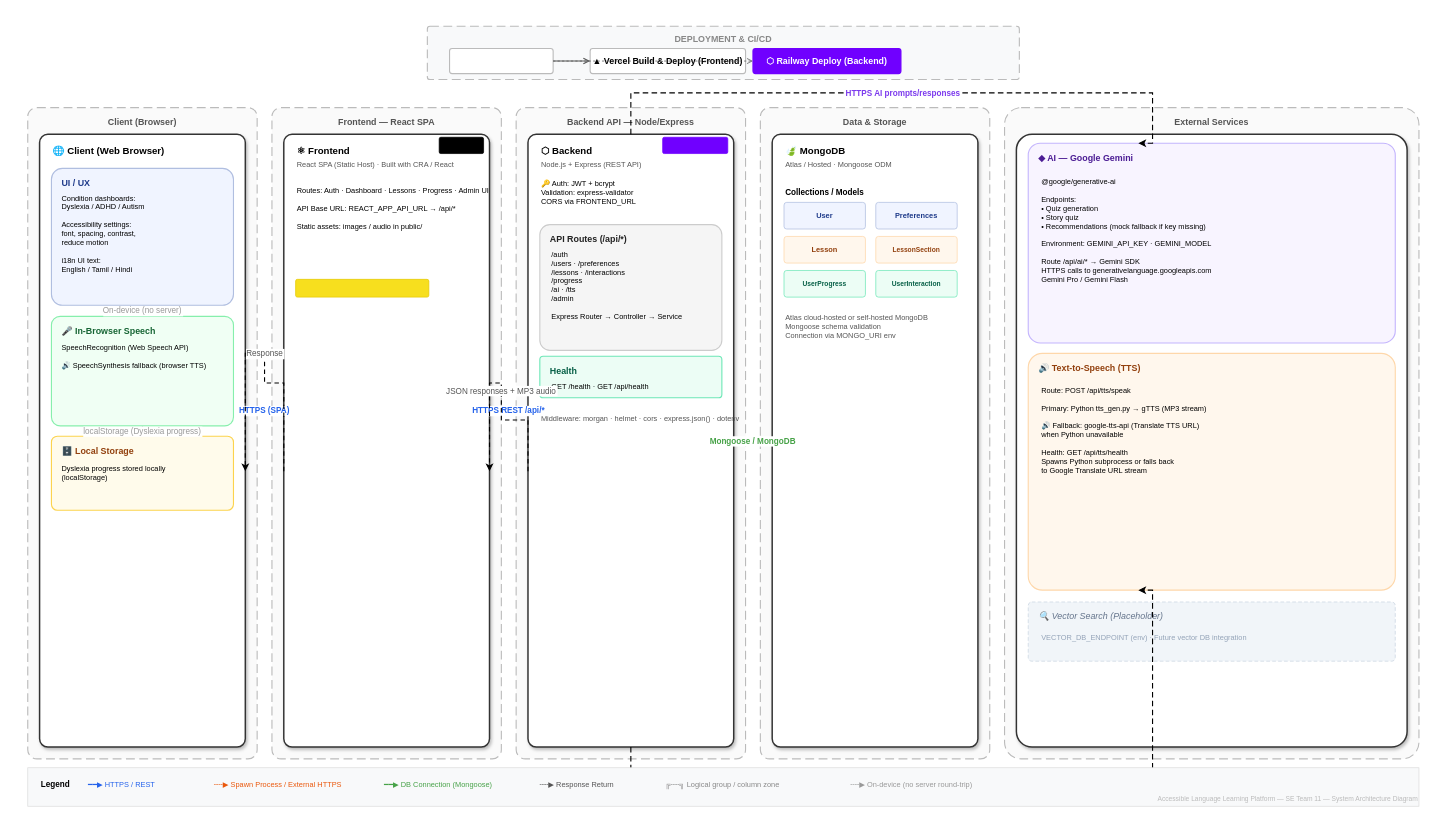
Some shapes in this 1446 by 824 pixel diagram are drawn without their labels. Each missing label, with the centre of its shape:
JS JavaScript (ES6+): (x=362, y=288)
▲ Vercel: (x=461, y=145)
⬡ GitHub Repo: (x=501, y=61)
⬡ Railway: (x=695, y=145)
